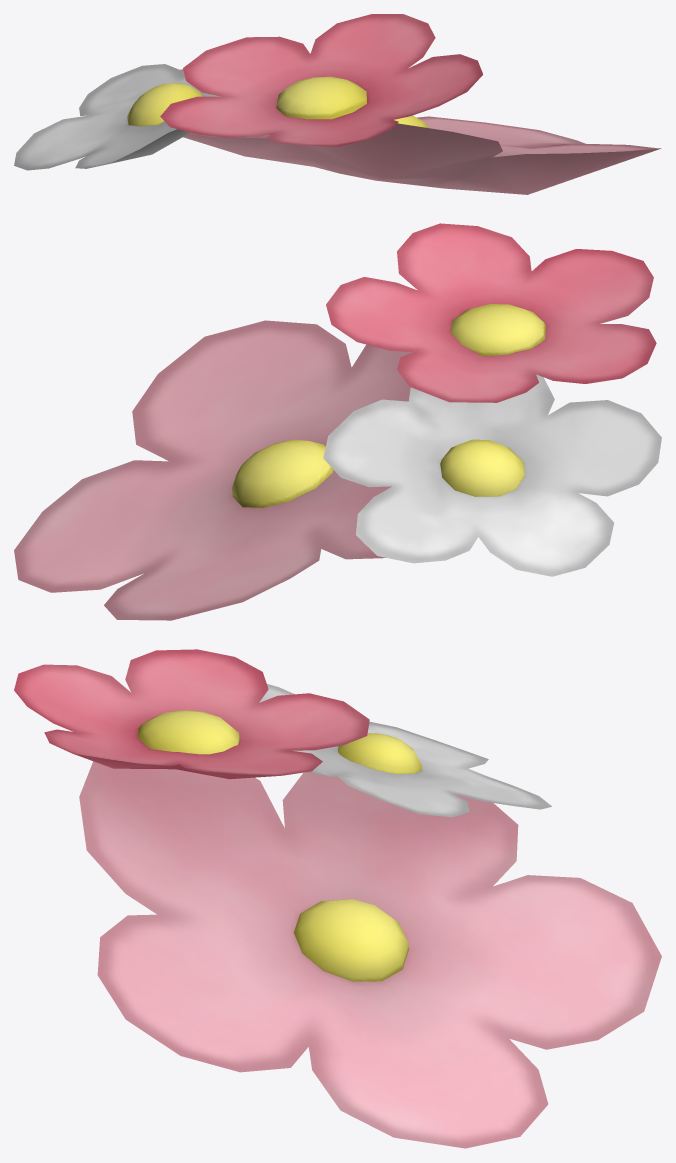
Rendered from flowers.obj.
The picture shows the model from 3 angles, top to bottom: view 1: azimuth 30°, elevation 25°; view 2: azimuth 150°, elevation 25°; view 3: azimuth 270°, elevation 25°; orthographic projection. The views are drawn at different scales.
Visible parts, largest first — view 1: pd0012_00_flowerpin02Skin, pd0012_00_flowerpin01Skin, pd0012_00_flowerpin03Skin; view 2: pd0012_00_flowerpin01Skin, pd0012_00_flowerpin03Skin, pd0012_00_flowerpin02Skin; view 3: pd0012_00_flowerpin01Skin, pd0012_00_flowerpin02Skin, pd0012_00_flowerpin03Skin.
Part boxes in pixels (<box>): pd0012_00_flowerpin02Skin: <box>160,14,482,146</box>; pd0012_00_flowerpin01Skin: <box>180,69,661,194</box>; pd0012_00_flowerpin03Skin: <box>14,64,220,170</box>; pd0012_00_flowerpin01Skin: <box>14,320,413,620</box>; pd0012_00_flowerpin03Skin: <box>323,374,661,576</box>; pd0012_00_flowerpin02Skin: <box>326,223,656,402</box>; pd0012_00_flowerpin01Skin: <box>79,761,661,1148</box>; pd0012_00_flowerpin02Skin: <box>14,649,369,779</box>; pd0012_00_flowerpin03Skin: <box>259,684,551,817</box>.
Bounding box in the file's own units: 0.7442 × 0.3189 × 0.687.
1 material, 1 textured.
